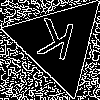K: (33, 18, 77, 70)
